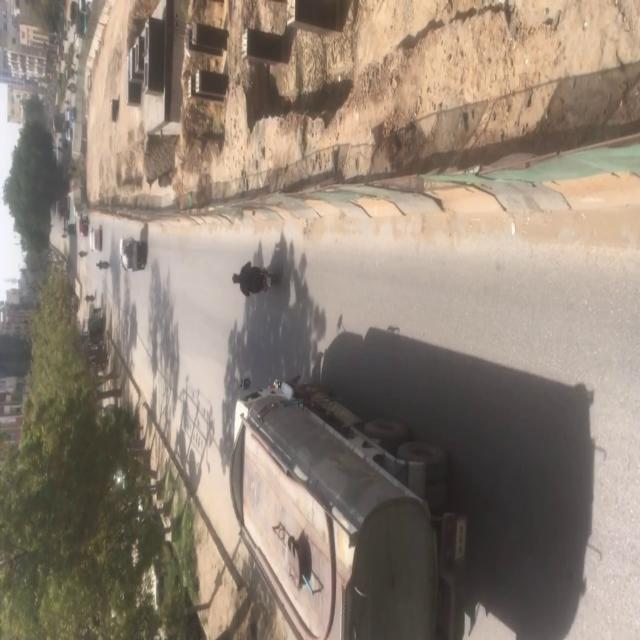motorbike: (228, 260, 287, 304), (94, 260, 112, 272)
truck: (220, 367, 472, 640)
